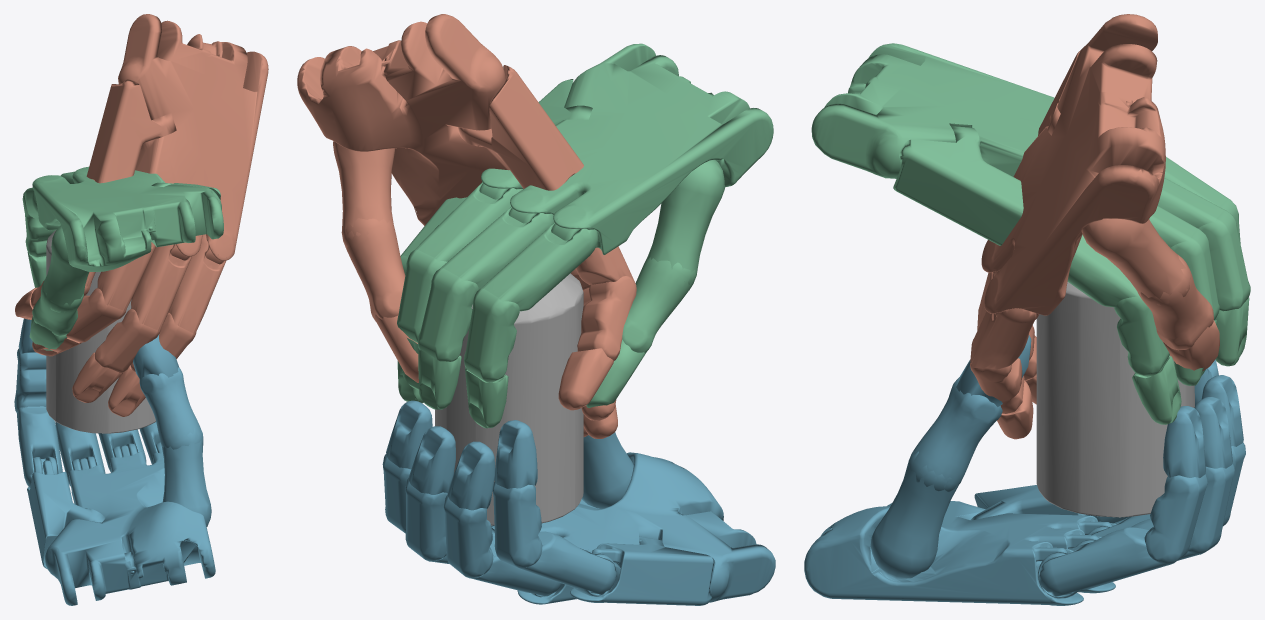
The picture shows the model from 3 angles, left to right: view 1: azimuth 30°, elevation 25°; view 2: azimuth 150°, elevation 25°; view 3: azimuth 270°, elevation 25°; orthographic projection. The views are drawn at different scales.
Size of the model in its own units: 0.1716 by 0.2752 by 0.1721.
